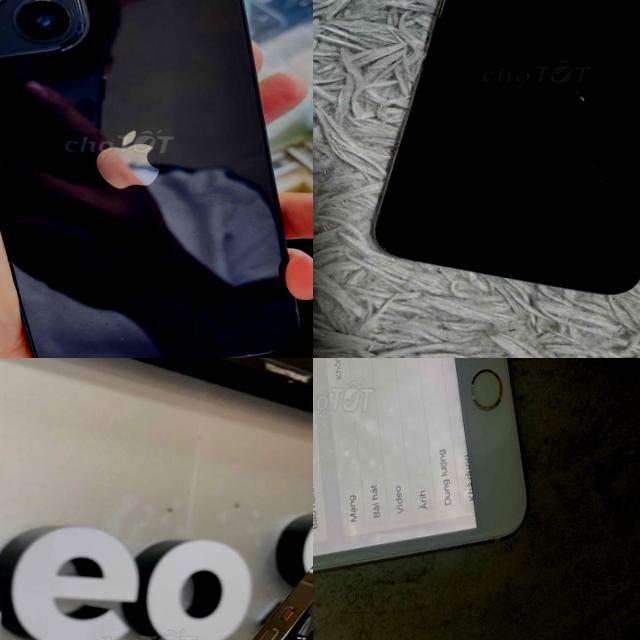scratch: (460, 374, 496, 421)
